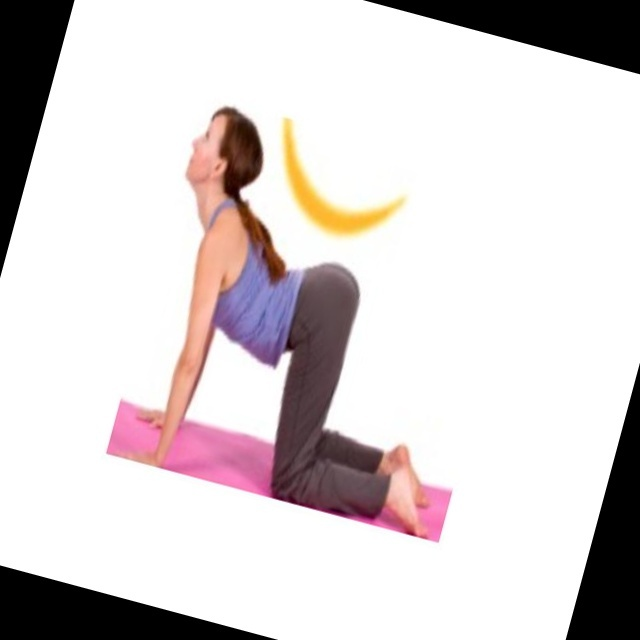Cow_Pose: (112, 107, 432, 540)
